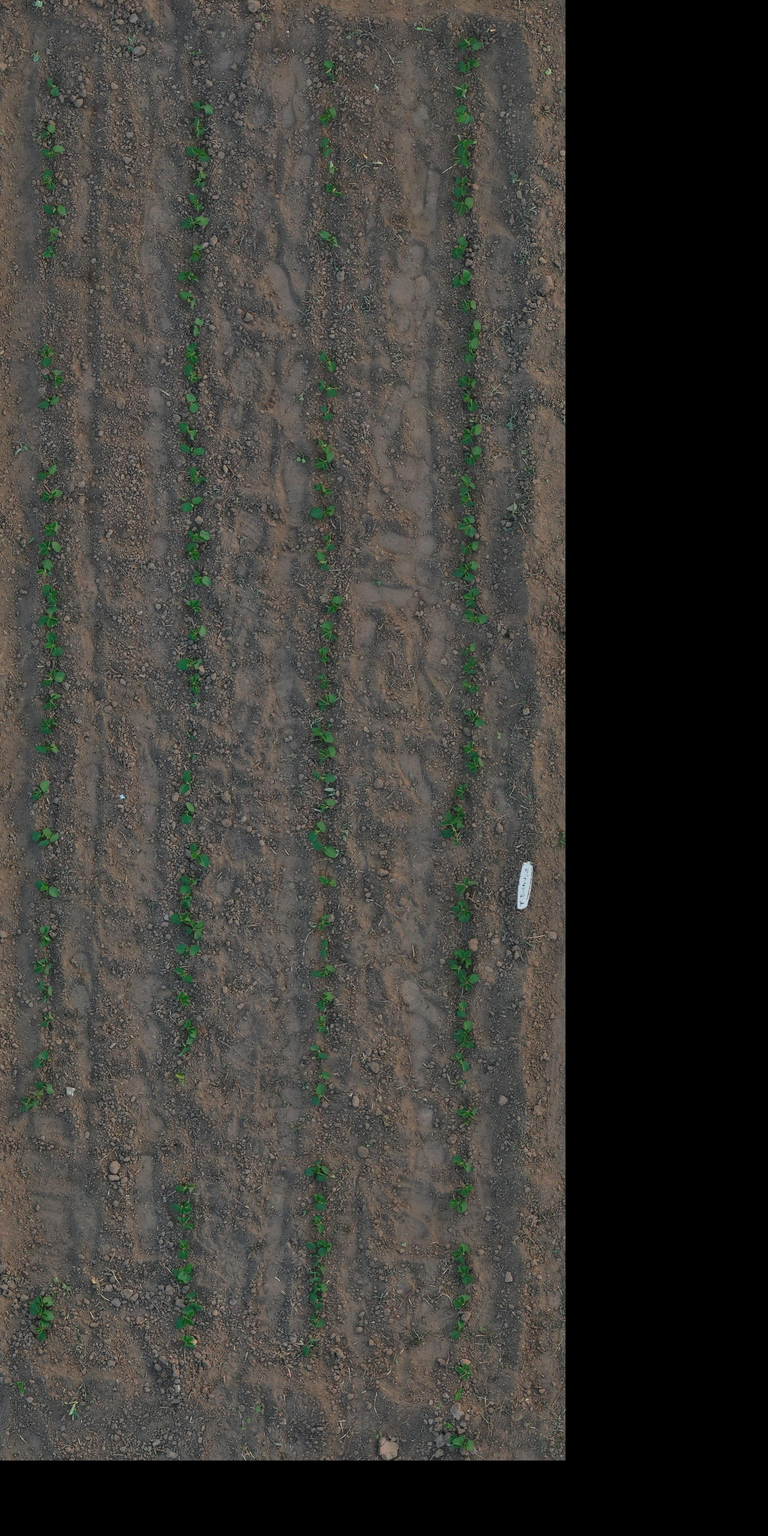s: (438, 805, 466, 846), (452, 560, 479, 582), (189, 842, 210, 868), (39, 668, 66, 688), (37, 605, 60, 628), (452, 899, 473, 924), (182, 1290, 203, 1315), (19, 1091, 43, 1112), (312, 839, 337, 859), (453, 143, 472, 169), (460, 423, 482, 445), (451, 196, 474, 217), (173, 1262, 194, 1285), (462, 609, 490, 626), (43, 632, 62, 657), (448, 960, 467, 985), (177, 1032, 196, 1057), (453, 877, 476, 897), (310, 505, 337, 522), (28, 1304, 55, 1321), (464, 336, 480, 364), (34, 880, 60, 897), (30, 780, 50, 802), (31, 956, 54, 975), (184, 146, 211, 162), (458, 514, 476, 538), (180, 215, 210, 229), (452, 268, 473, 288), (462, 446, 483, 466), (185, 920, 206, 940), (174, 1309, 194, 1330), (466, 752, 485, 774), (310, 727, 334, 744), (305, 1241, 329, 1258), (176, 656, 203, 671), (314, 451, 334, 471), (34, 558, 54, 578), (455, 104, 474, 125), (319, 379, 340, 398), (307, 821, 326, 842), (317, 230, 339, 248), (319, 350, 337, 372), (42, 584, 60, 606), (463, 709, 485, 727), (452, 1242, 470, 1264), (41, 168, 58, 191), (40, 145, 66, 160), (458, 37, 484, 52), (452, 236, 468, 260), (38, 540, 62, 556), (304, 1166, 328, 1182), (34, 1318, 50, 1342), (188, 466, 208, 485), (448, 1194, 468, 1213), (454, 1019, 474, 1038), (302, 1338, 321, 1358), (319, 106, 337, 127), (320, 620, 338, 641), (39, 343, 54, 368), (462, 587, 479, 609), (172, 967, 194, 984), (310, 914, 332, 931), (457, 1264, 474, 1286), (457, 58, 480, 74), (185, 342, 201, 365), (180, 496, 203, 512), (452, 1435, 475, 1451), (174, 943, 202, 956), (310, 964, 336, 978), (183, 364, 202, 383), (325, 596, 344, 615), (37, 1010, 56, 1029), (42, 692, 62, 710), (180, 801, 195, 825), (316, 992, 334, 1012), (182, 1019, 200, 1039), (452, 1155, 472, 1173), (37, 464, 58, 481), (317, 694, 338, 711), (172, 1199, 193, 1216), (462, 390, 478, 412), (34, 1080, 56, 1096), (453, 175, 468, 198), (31, 827, 54, 842), (37, 832, 60, 847), (178, 422, 197, 440), (40, 717, 59, 735), (317, 746, 336, 764), (454, 1363, 473, 1381), (460, 974, 480, 991), (453, 1052, 470, 1072), (460, 475, 476, 496), (179, 770, 193, 794), (453, 1033, 474, 1049), (192, 100, 214, 115), (40, 488, 62, 503), (311, 770, 336, 783), (179, 444, 206, 456), (192, 570, 211, 587), (32, 1050, 49, 1069), (192, 167, 206, 190), (322, 59, 336, 82), (38, 925, 52, 948), (312, 1083, 326, 1106), (324, 182, 344, 198), (176, 1215, 196, 1231), (188, 193, 203, 214), (187, 529, 211, 542), (29, 1295, 53, 1308), (456, 134, 478, 148), (177, 1238, 191, 1260), (456, 1105, 478, 1119), (179, 290, 196, 308), (454, 949, 472, 966), (314, 482, 333, 498), (187, 625, 206, 641), (462, 656, 478, 675), (461, 678, 480, 694), (460, 540, 480, 555), (454, 1182, 474, 1197), (36, 396, 59, 409), (176, 270, 199, 283), (468, 320, 482, 341), (170, 912, 191, 926), (42, 204, 66, 216), (188, 245, 204, 263), (34, 742, 58, 754), (174, 991, 190, 1009), (310, 1044, 328, 1060), (308, 1292, 324, 1310), (192, 116, 205, 138), (451, 1318, 464, 1340), (458, 375, 477, 390), (186, 542, 200, 562), (316, 551, 330, 571), (312, 1214, 326, 1234), (174, 1182, 197, 1194), (460, 298, 477, 314), (319, 798, 336, 814), (309, 1312, 326, 1328), (313, 1193, 328, 1211), (453, 1294, 471, 1309), (315, 1015, 330, 1033), (46, 77, 59, 97), (186, 393, 199, 413), (317, 646, 330, 666), (454, 83, 470, 99), (186, 599, 202, 615), (460, 492, 477, 507), (43, 520, 58, 537), (315, 672, 330, 689), (320, 137, 332, 158), (188, 674, 200, 695), (454, 782, 468, 800), (317, 437, 330, 456), (37, 980, 52, 996), (50, 369, 64, 386), (320, 403, 334, 420), (459, 642, 476, 656), (322, 534, 335, 552), (179, 876, 192, 894), (180, 892, 193, 910), (192, 317, 204, 336), (40, 124, 56, 138), (314, 1160, 330, 1174), (312, 1258, 325, 1275), (318, 875, 336, 887), (45, 228, 59, 243), (448, 1434, 463, 1448), (316, 1240, 332, 1253), (185, 874, 202, 886), (456, 1001, 468, 1018), (462, 740, 476, 754), (181, 1334, 194, 1349), (312, 1282, 328, 1294), (320, 937, 329, 958), (42, 246, 56, 259), (316, 1070, 332, 1080), (454, 1388, 464, 1401), (309, 1270, 321, 1280), (42, 990, 50, 1003), (456, 1080, 469, 1088), (190, 697, 199, 707), (186, 732, 195, 740), (444, 1422, 454, 1429), (187, 753, 196, 759), (176, 1069, 184, 1075), (325, 1028, 330, 1036), (44, 374, 49, 381)
